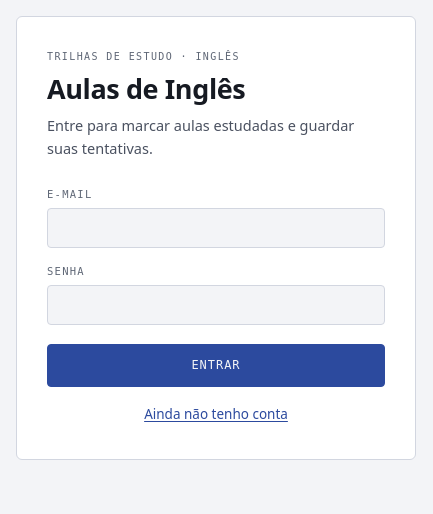
Scenario: LoginPage › mostra a mensagem que a API devolveu, não uma genérica
Type "x@y.com" into the field labelled "E-mail" at (216, 228), box x1=47 y1=208 x2=385 y2=248
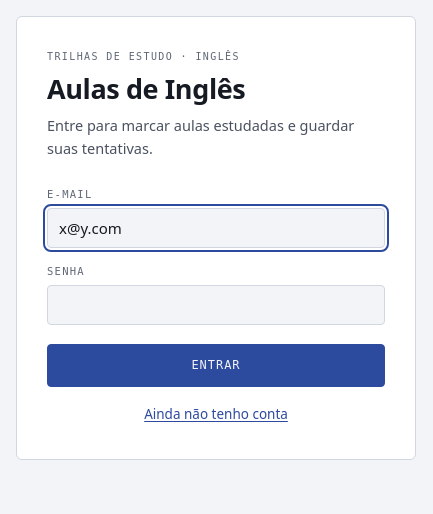
Type "senha-bem-grande" into the password field labelled "Senha" at (216, 305), box x1=47 y1=285 x2=385 y2=325
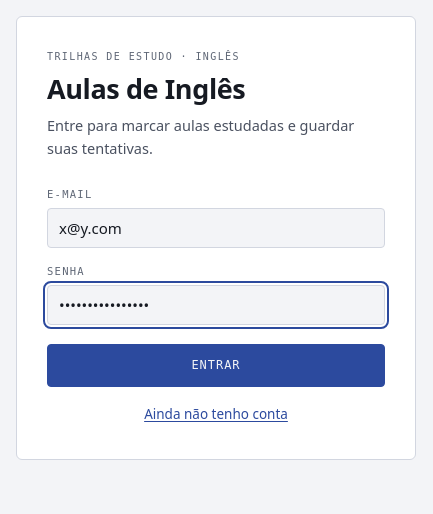
Click the button "Entrar" at (216, 366), box x1=47 y1=344 x2=385 y2=387
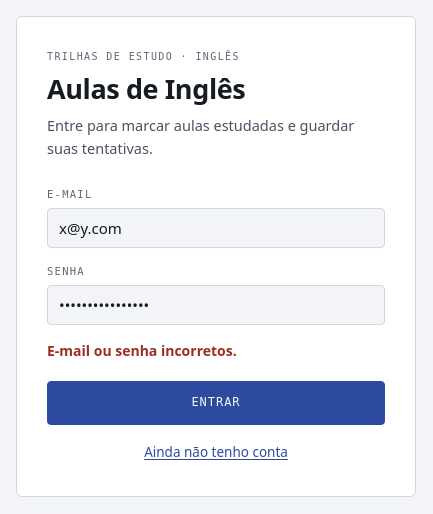
Now the message reads "E-mail ou senha incorretos.", box x1=47 y1=341 x2=237 y2=360
